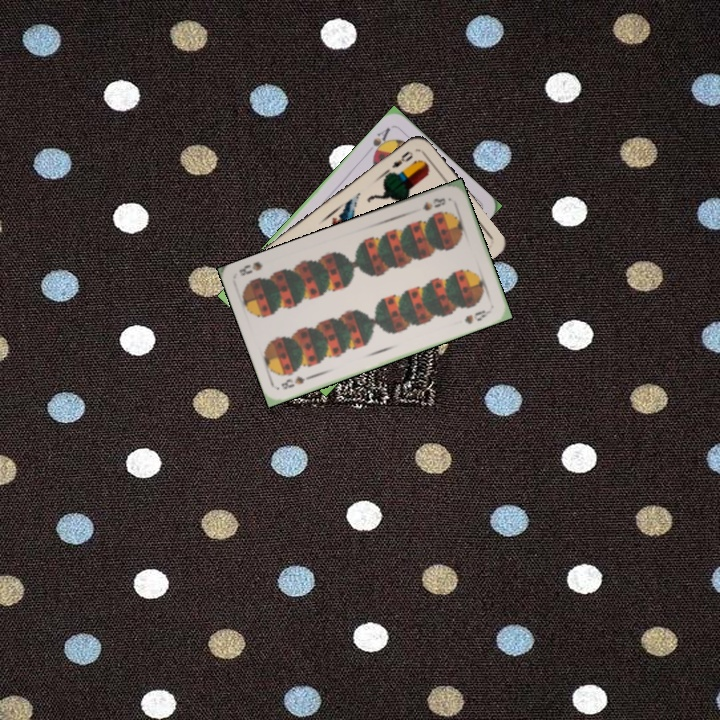EO: (388, 147, 416, 171)
S8: (277, 371, 316, 392), (419, 194, 448, 214)
SA: (368, 123, 393, 160)
